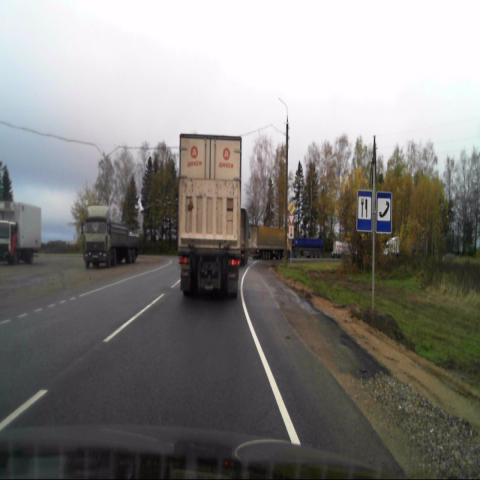7_6: (375, 192, 392, 233)
7_7: (356, 190, 372, 231)
